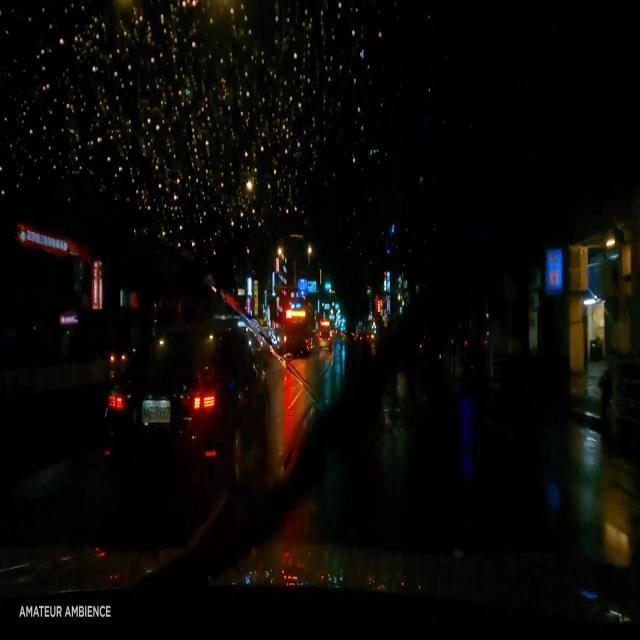Car: (99, 333, 268, 487)
